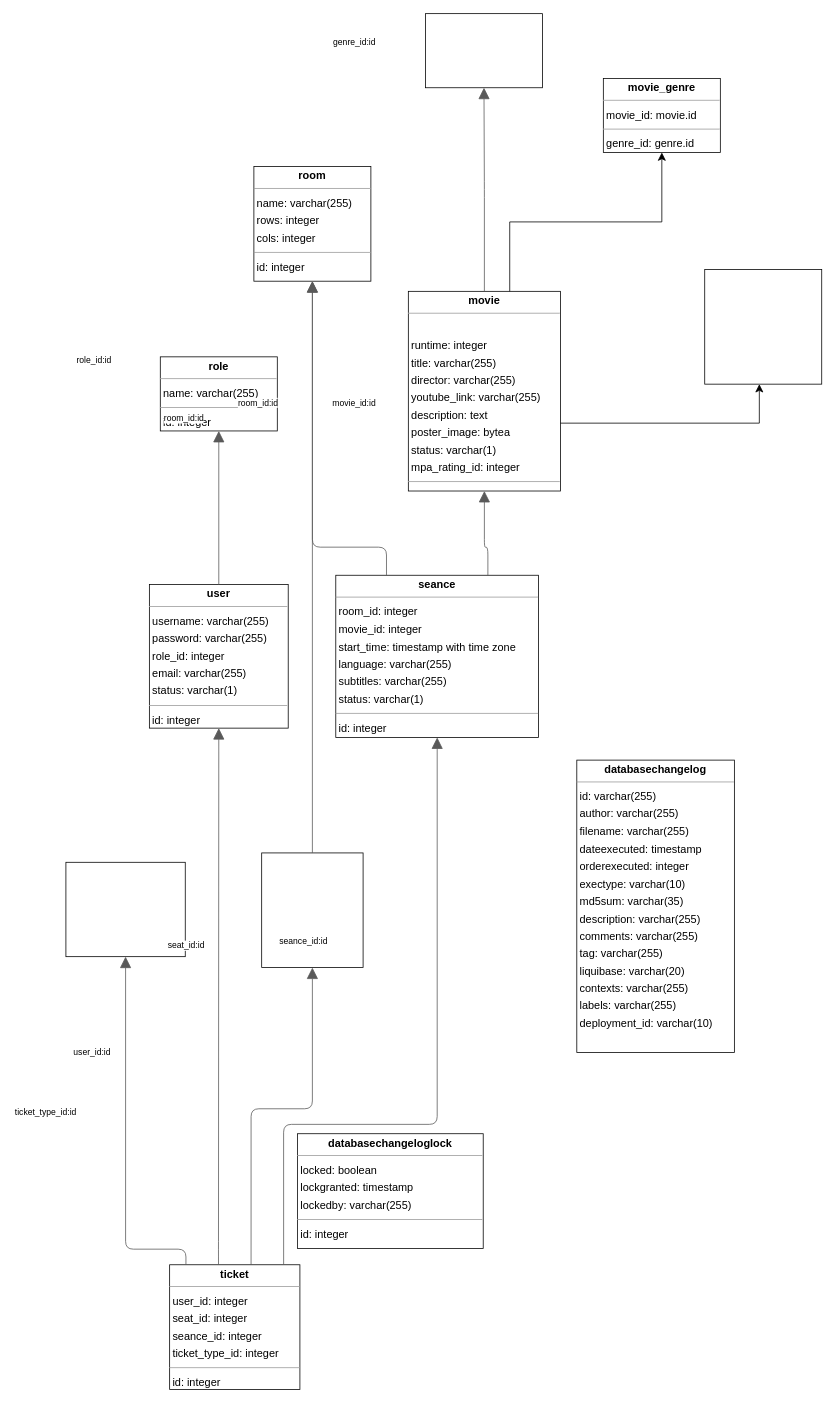
This 835x1403 diagram has some shape labels left out. The shapes that lost their labels are listed below. From the top down, each one's centre as x and y in pixels, then its label:
At pixel 483 50: "genre name: varchar(255) id: integer".
At pixel 763 326: "mpa_rating name: varchar(255) id: integer".
At pixel 125 909: "ticket_type name: varchar(255) price: numeric(10,2) id: integer".
At pixel 312 910: "seat room_id: integer col: integer row: integer id: integer".
